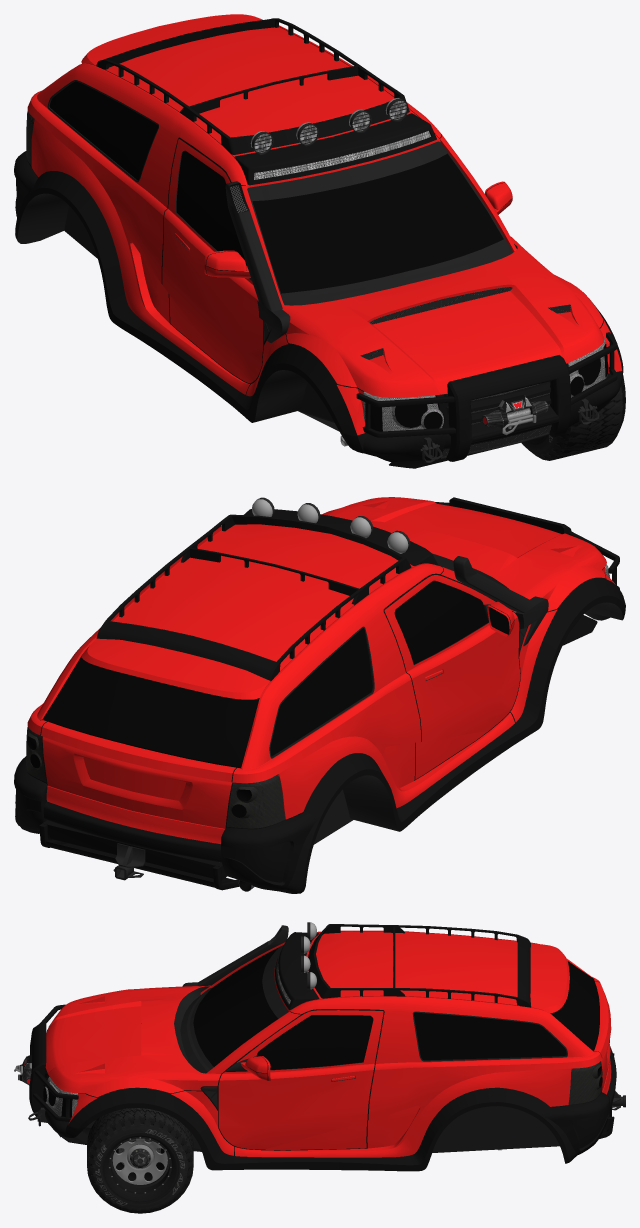
Rendered from jeep 5.fbx.
3 views of the same model, one above another, from view 1: azimuth 30°, elevation 25°; view 2: azimuth 150°, elevation 25°; view 3: azimuth 270°, elevation 25° (orthographic). The views are drawn at different scales.
Visible parts, largest first — view 1: body, Tyre; view 2: body; view 3: body, Tyre.
Boxes of the visible parts, bbox=[...] form: body: bbox=[14, 14, 623, 468]; Tyre: bbox=[521, 375, 625, 460]; body: bbox=[14, 497, 625, 893]; body: bbox=[14, 922, 625, 1171]; Tyre: bbox=[87, 1108, 193, 1213].
Size of the model in its own units: 86.35 by 75.96 by 197.
